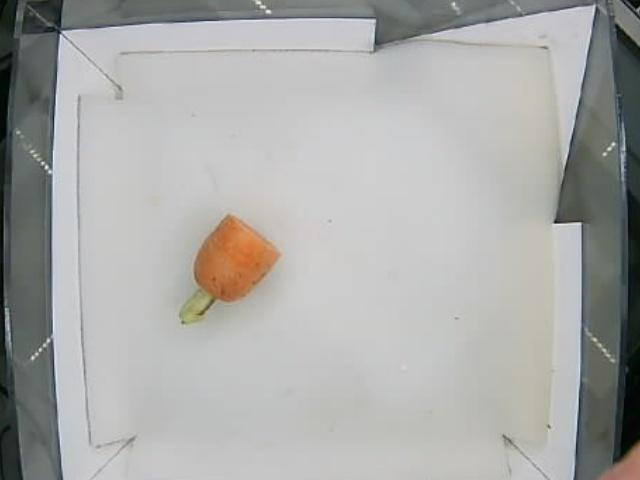Carrot: (176, 214, 276, 327)
